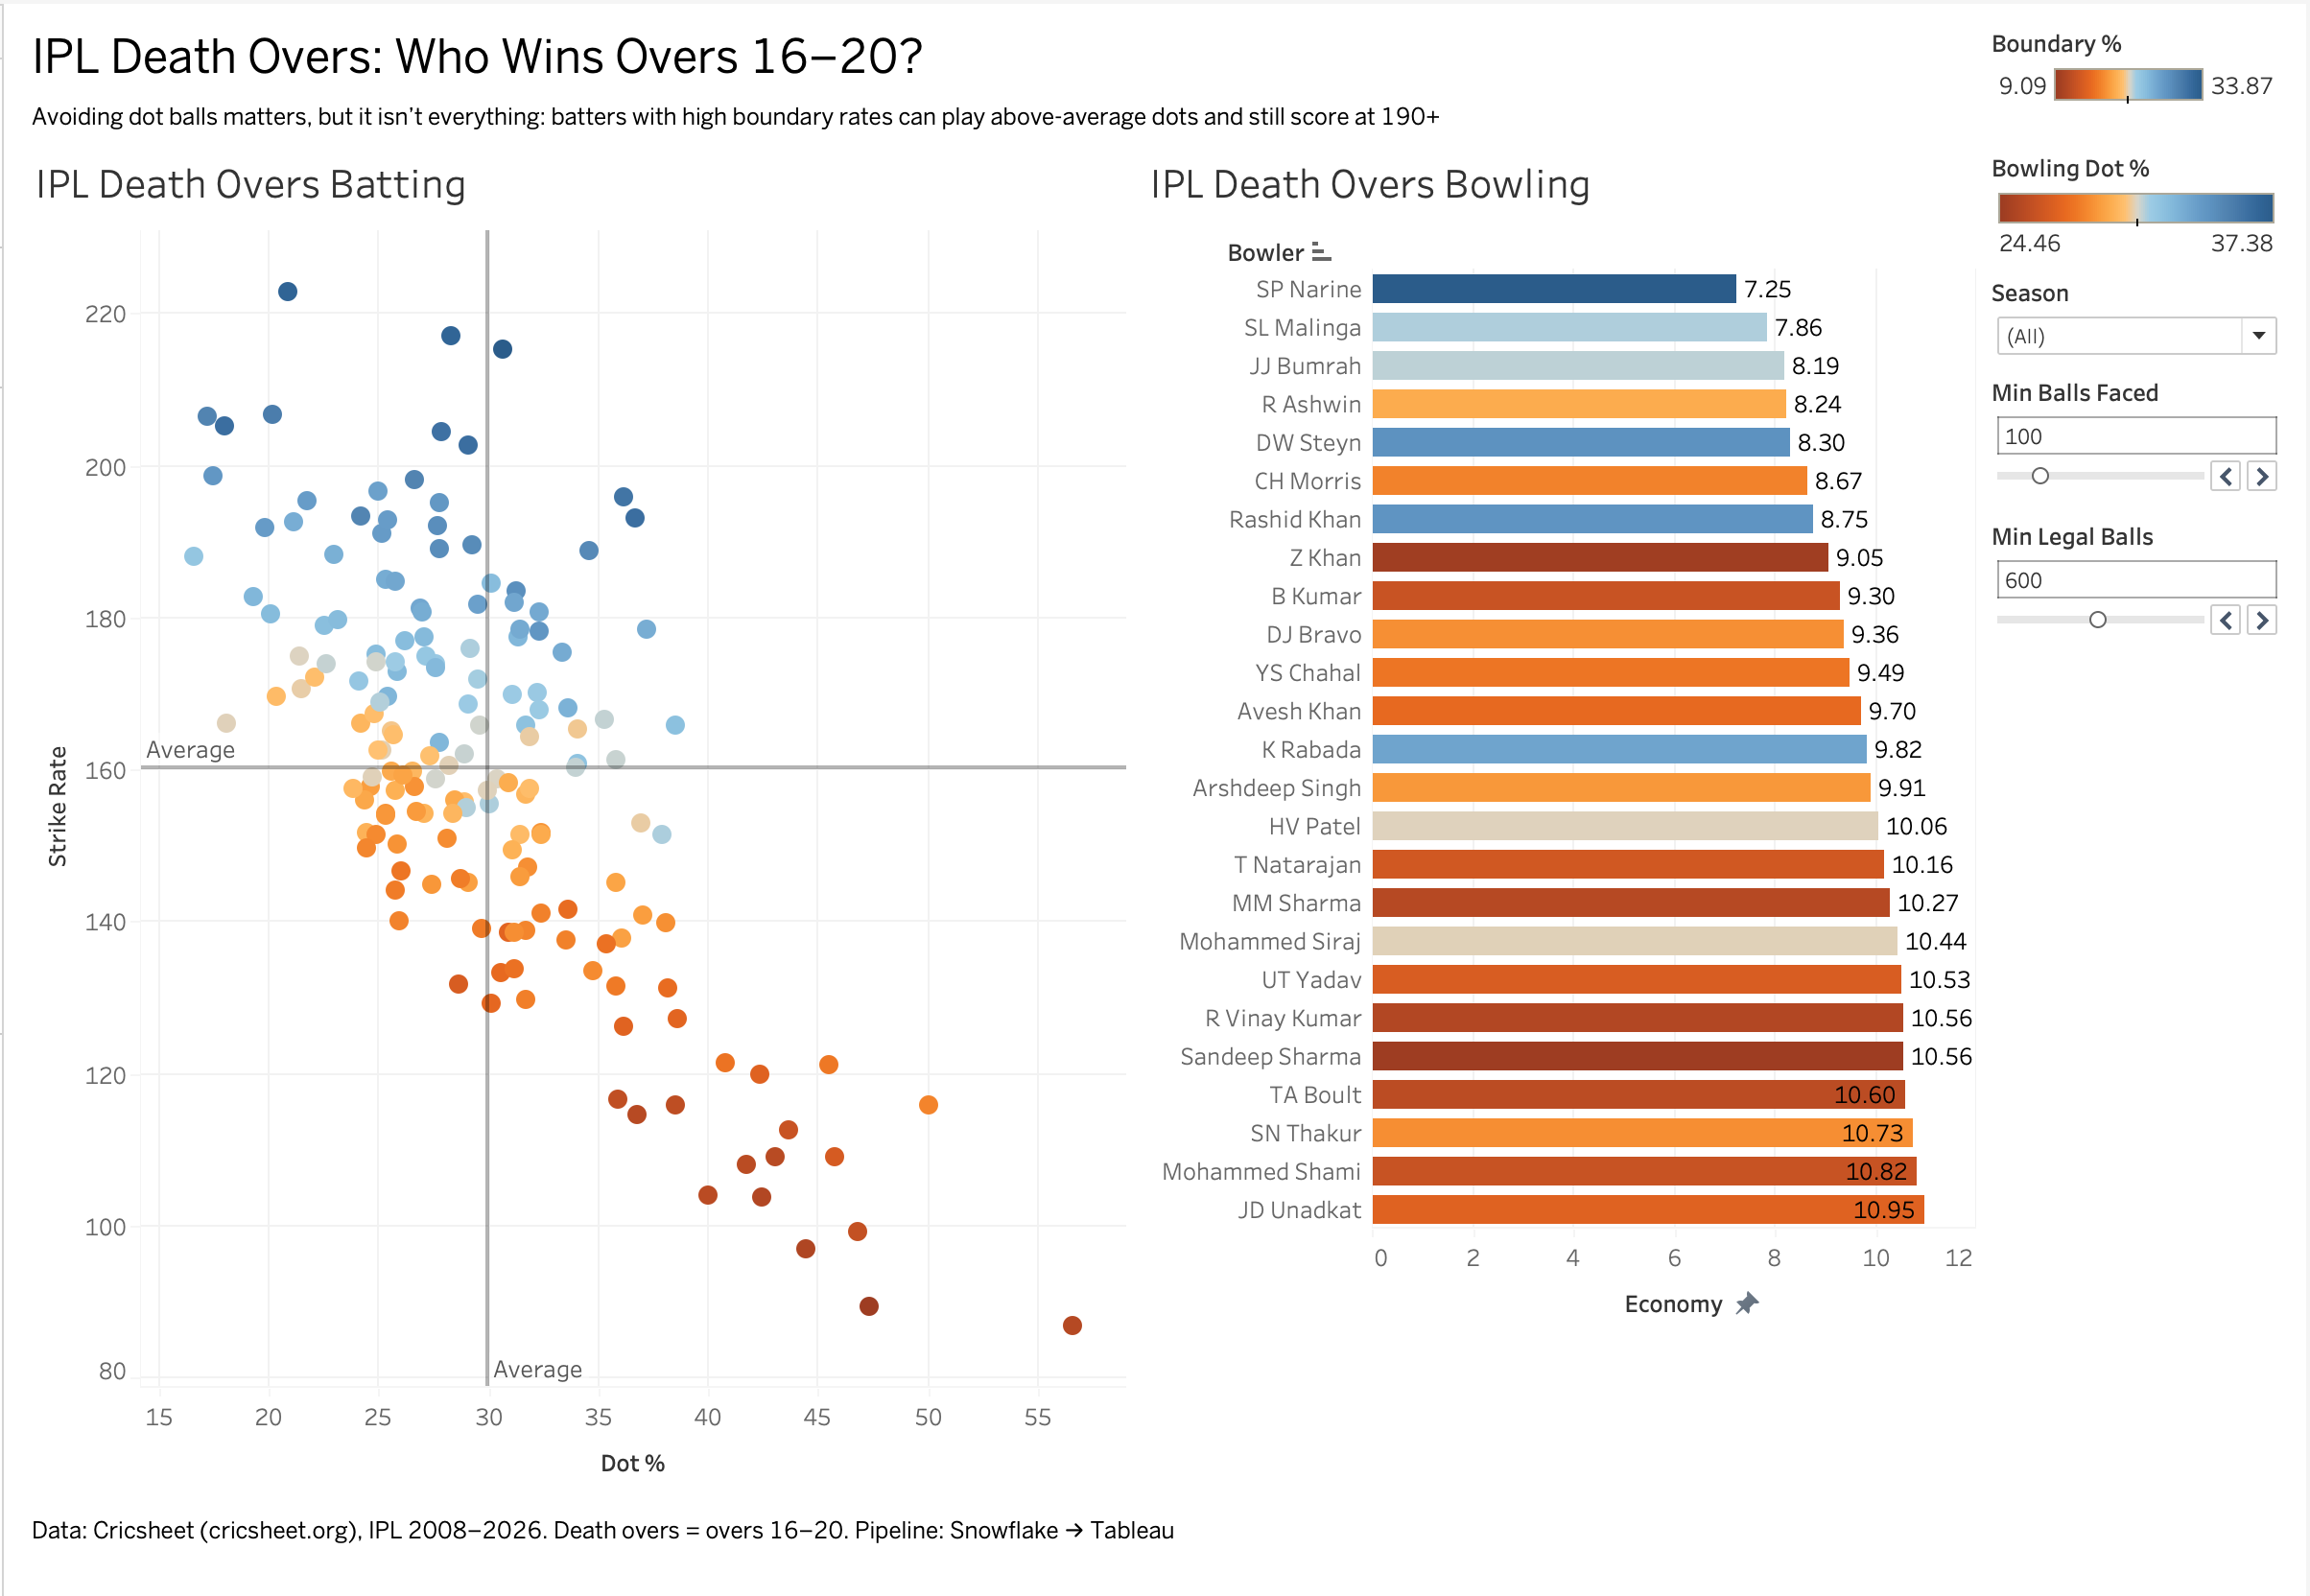

What the dashboard file says about the page in this screenshot:
{"tool":"tableau","page":{"name":"IPL Death Overs Dashboard","canvas":[1200,850],"ordinal":0},"visuals":[{"type":"title","box":[8,8,1024,39]},{"type":"legend","title":"IPL Death Overs Batting","param":"[federated.0iqra6z0l6qt1l14r05z116r39tl].[usr:Calculation_1861943466504194:qk]","box":[1032,8,160,65]},{"type":"text","box":[8,47,1024,24]},{"type":"worksheet","title":"IPL Death Overs Batting","mark":"Circle","rows":["Calculation_1861943466344448"],"cols":["Calculation_1861943466426369"],"box":[8,71,581,709]},{"type":"worksheet","title":"IPL Death Overs Bowling","mark":"Automatic","rows":["BOWLER"],"cols":["Calculation_1861943492886531"],"box":[589,71,443,709]},{"type":"legend","title":"IPL Death Overs Bowling","param":"[federated.0z46z6i0qyfrrq139rxg71jgjgjm].[usr:Calculation_1861943492939780:qk]","box":[1032,73,160,65]},{"type":"filter","title":"IPL Death Overs Batting","param":"[federated.0iqra6z0l6qt1l14r05z116r39tl].[none:SEASON:nk]","box":[1032,138,160,52]},{"type":"parameter","param":"[Parameters].[Parameter 1861943499534341]","box":[1032,190,160,75]},{"type":"parameter","param":"[Parameters].[Parameter 1861943500312583]","box":[1032,265,160,75]},{"type":"text","box":[8,780,1024,32.4]},{"type":"text","box":[8,812.4,1024,29.6]}]}

Visuals, with their boxes in screenshot pixels (x1, y1, x2, y2), scaled from the page's 1200x850 canvas onto the 2310x1596 screenshot:
title: box(15, 15, 1987, 88)
"IPL Death Overs Batting" legend: box(1987, 15, 2295, 137)
text: box(15, 88, 1987, 133)
"IPL Death Overs Batting" worksheet (Circle marks): box(15, 133, 1134, 1465)
"IPL Death Overs Bowling" worksheet: box(1134, 133, 1987, 1465)
"IPL Death Overs Bowling" legend: box(1987, 137, 2295, 259)
"IPL Death Overs Batting" filter: box(1987, 259, 2295, 357)
parameter: box(1987, 357, 2295, 498)
parameter: box(1987, 498, 2295, 639)
text: box(15, 1465, 1987, 1525)
text: box(15, 1525, 1987, 1581)
